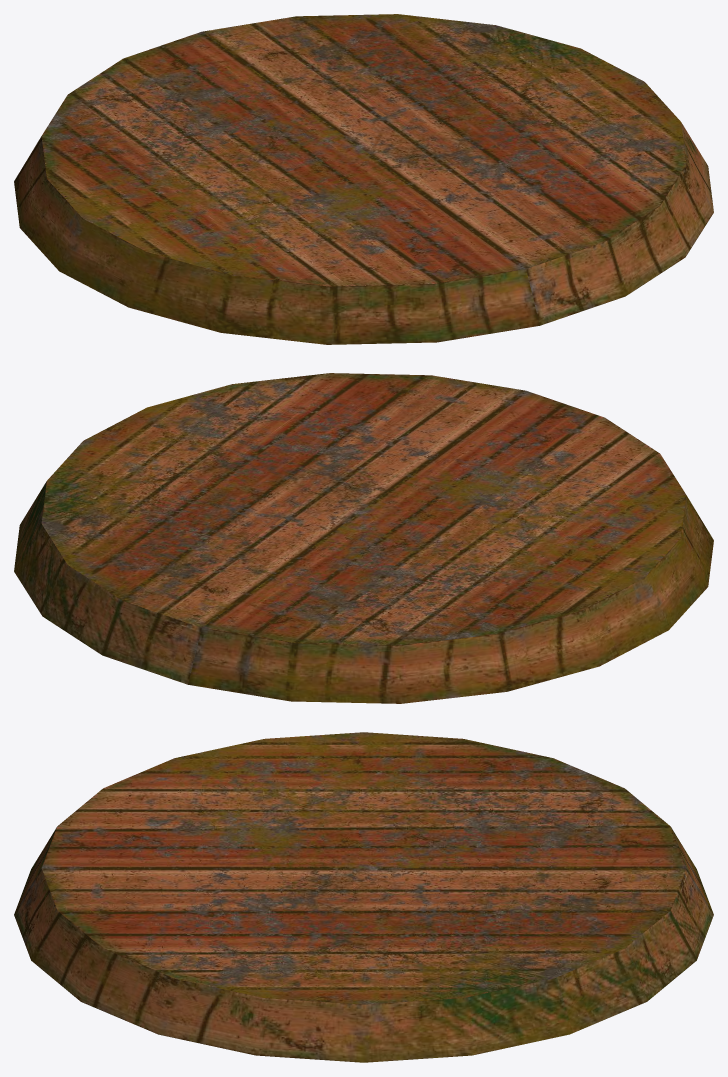
File: barrel_lid.glb
3 views of the same model, one above another, from view 1: azimuth 30°, elevation 25°; view 2: azimuth 150°, elevation 25°; view 3: azimuth 270°, elevation 25° (orthographic).
Visible parts, largest first — view 1: Barell2_Barell_Lid_Mat_0; view 2: Barell2_Barell_Lid_Mat_0; view 3: Barell2_Barell_Lid_Mat_0.
Boxes of the visible parts, left/top/right/bottom form: Barell2_Barell_Lid_Mat_0: left=14, top=14, right=713, bottom=344; Barell2_Barell_Lid_Mat_0: left=14, top=373, right=713, bottom=703; Barell2_Barell_Lid_Mat_0: left=14, top=732, right=713, bottom=1062.
Size of the model in its own units: 0.2157 by 0.0158 by 0.2157.
Materials: 1 (1 with a texture image).
